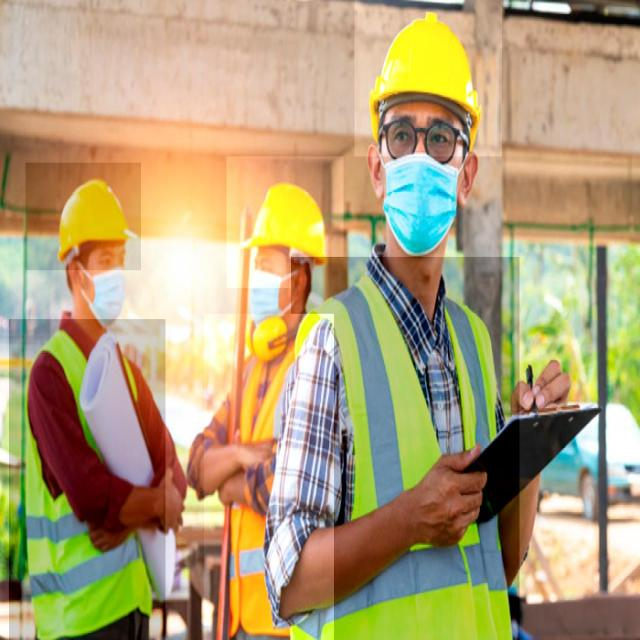Helmet: (354, 0, 501, 156), (226, 156, 344, 288), (25, 163, 141, 270)
Safety Vest: (291, 257, 519, 640), (9, 319, 165, 640), (204, 314, 334, 640)
